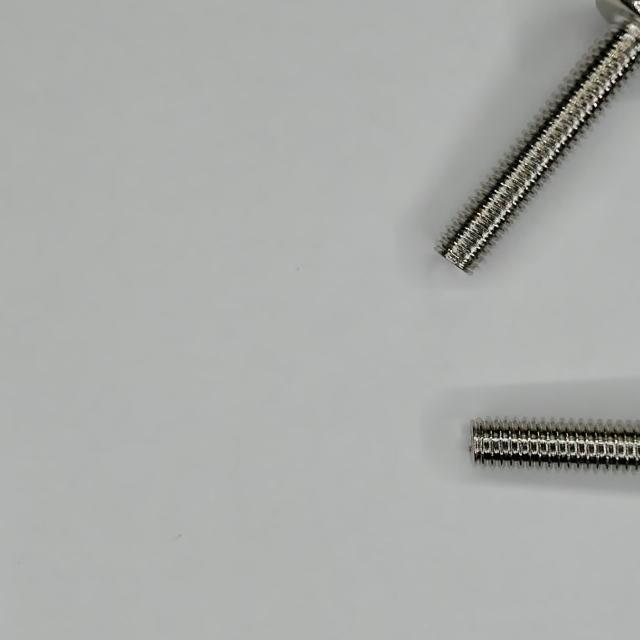Screw: (440, 0, 640, 270), (470, 401, 640, 478)
